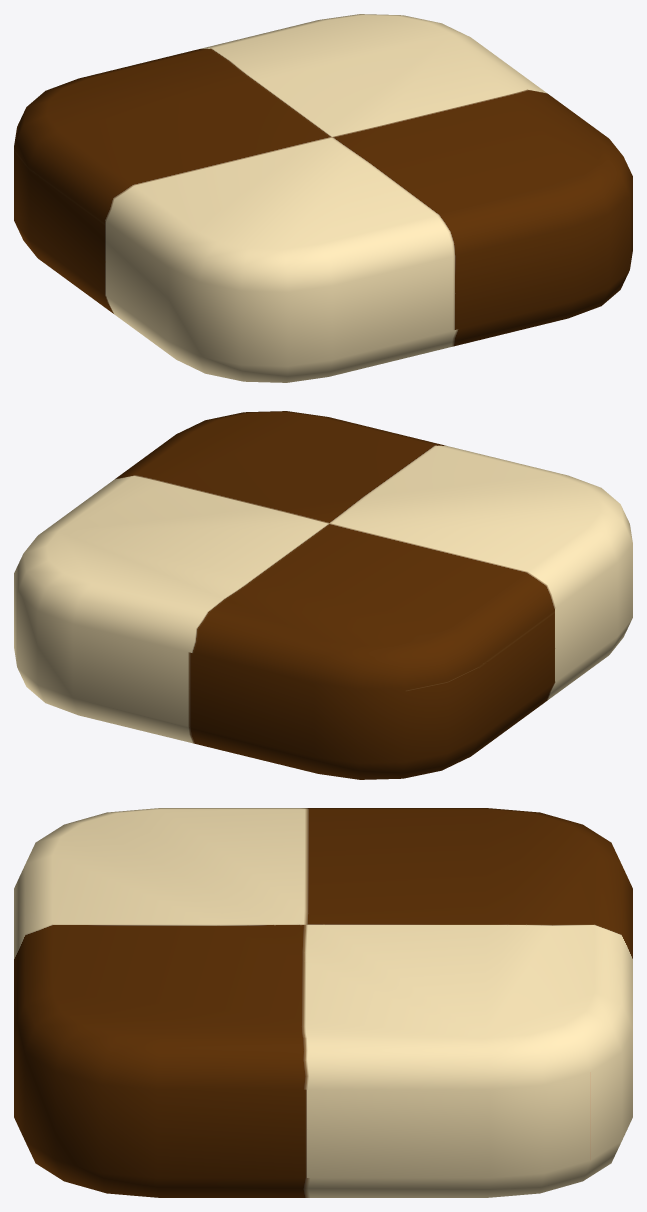
File: squareCookie.fbx
3 renders of one model, top to bottom at view 1: azimuth 30°, elevation 25°; view 2: azimuth 150°, elevation 25°; view 3: azimuth 270°, elevation 25°, orthographic. The views are drawn at different scales.
Visible parts, largest first — view 1: Cube; view 2: Cube; view 3: Cube.
Part boxes in pixels (x1,y1,x2,y2): Cube: (14, 14, 632, 382); Cube: (14, 411, 632, 779); Cube: (14, 808, 632, 1197).
Size of the model in its own units: 200 by 56.36 by 200.
